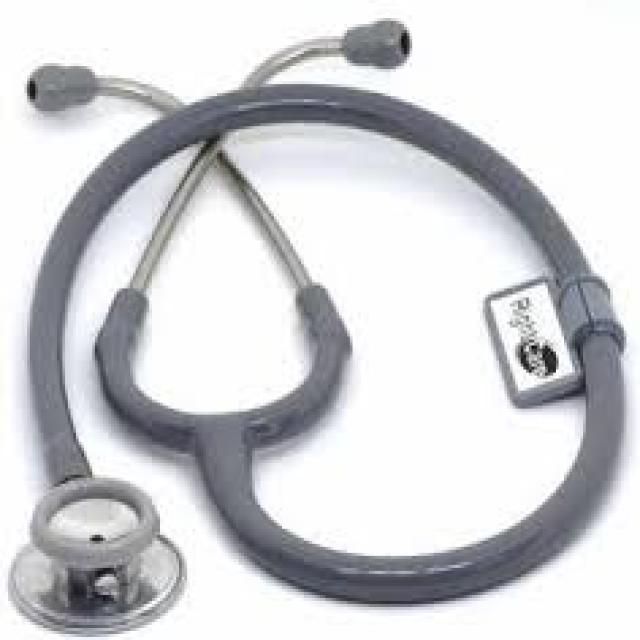stethoscope: (17, 19, 637, 589)
